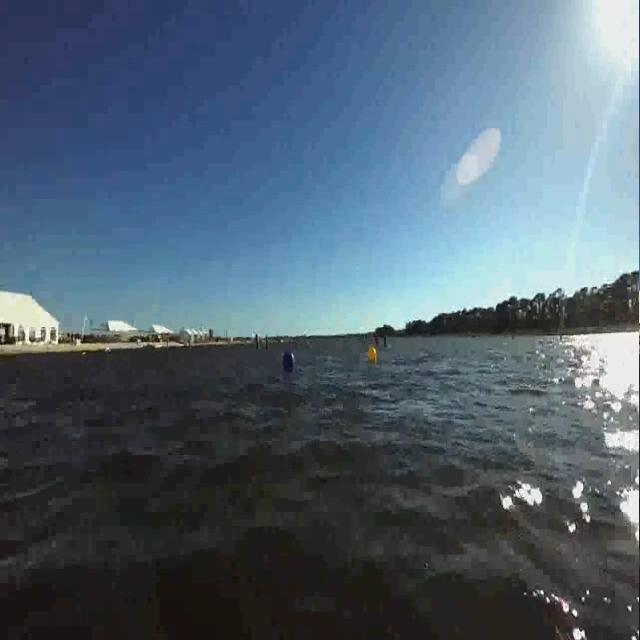black-buoy: (280, 346, 296, 376)
yellow-buoy: (365, 347, 383, 366)
